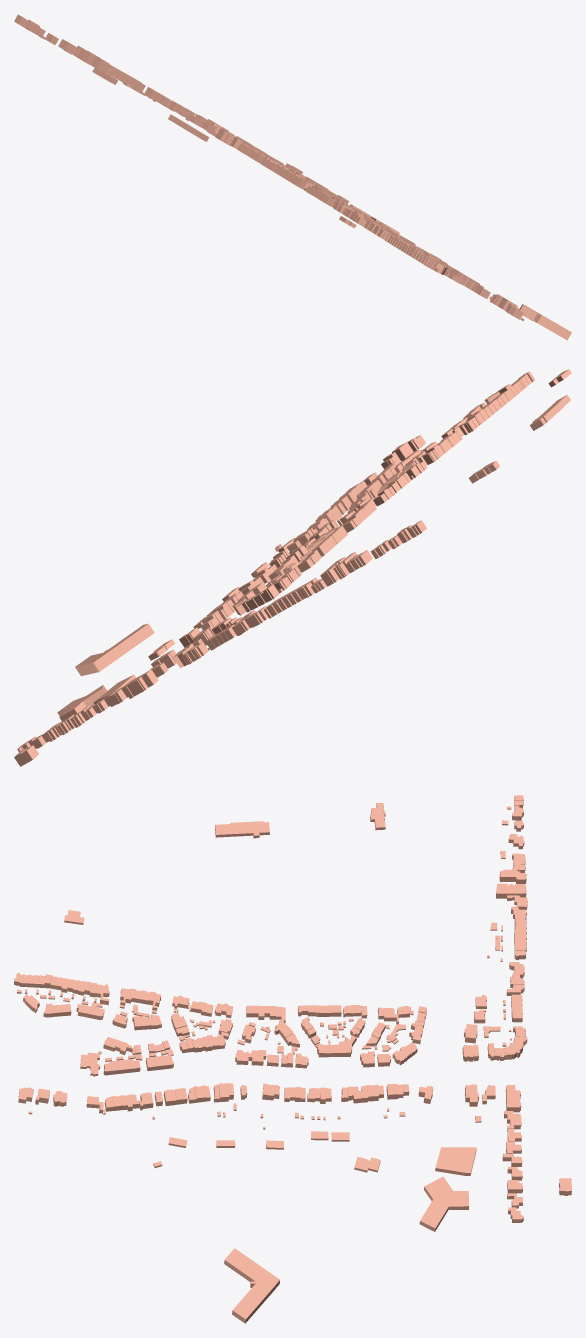
The picture shows the model from 3 angles, top to bottom: view 1: azimuth 30°, elevation 25°; view 2: azimuth 150°, elevation 25°; view 3: azimuth 270°, elevation 25°; orthographic projection. The views are drawn at different scales.
Bounding box in the file's own units: 542 × 401 × 620.
